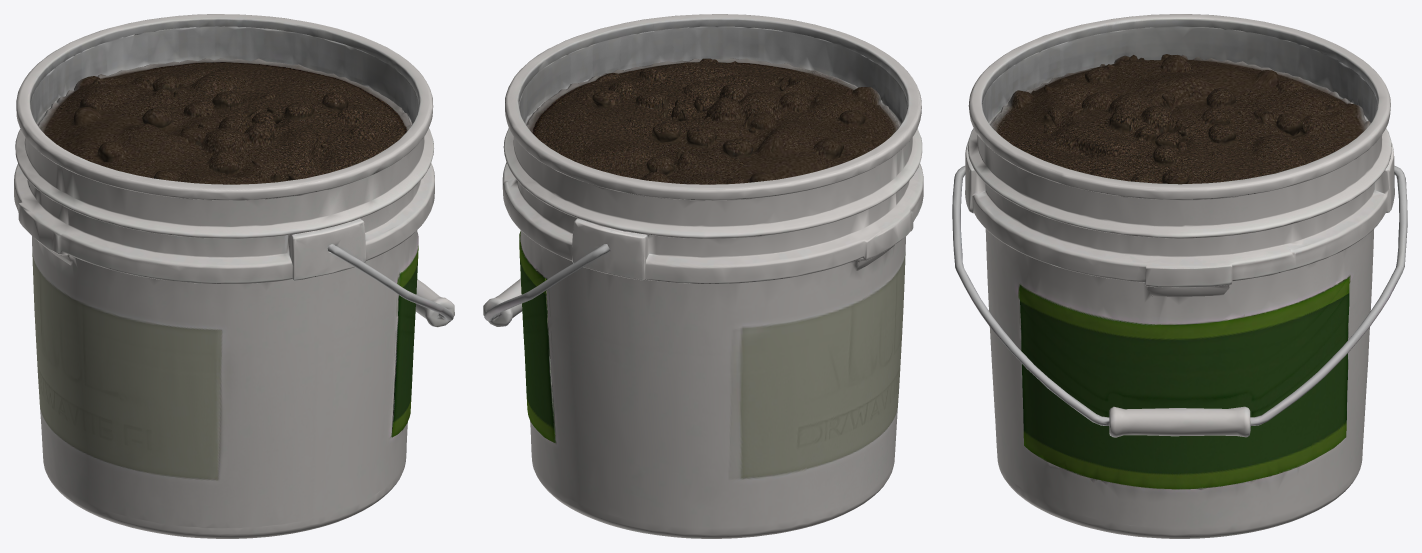
File: bucket+with+soil+3d+model.glb
3 views of the same model, side by side, from view 1: azimuth 30°, elevation 25°; view 2: azimuth 150°, elevation 25°; view 3: azimuth 270°, elevation 25° (orthographic).
Parts seen in each view (by area): view 1: tripo_node_973344ea-5b98-4040-bfde-7b2f0f72c6b6; view 2: tripo_node_973344ea-5b98-4040-bfde-7b2f0f72c6b6; view 3: tripo_node_973344ea-5b98-4040-bfde-7b2f0f72c6b6.
Boxes of the visible parts, left/top/right/bottom form: tripo_node_973344ea-5b98-4040-bfde-7b2f0f72c6b6: left=14, top=14, right=454, bottom=538; tripo_node_973344ea-5b98-4040-bfde-7b2f0f72c6b6: left=483, top=14, right=923, bottom=538; tripo_node_973344ea-5b98-4040-bfde-7b2f0f72c6b6: left=952, top=14, right=1407, bottom=538.
Bounding box in the file's own units: 0.9507 × 0.8672 × 0.9801.
Materials: 1 (1 with a texture image).
